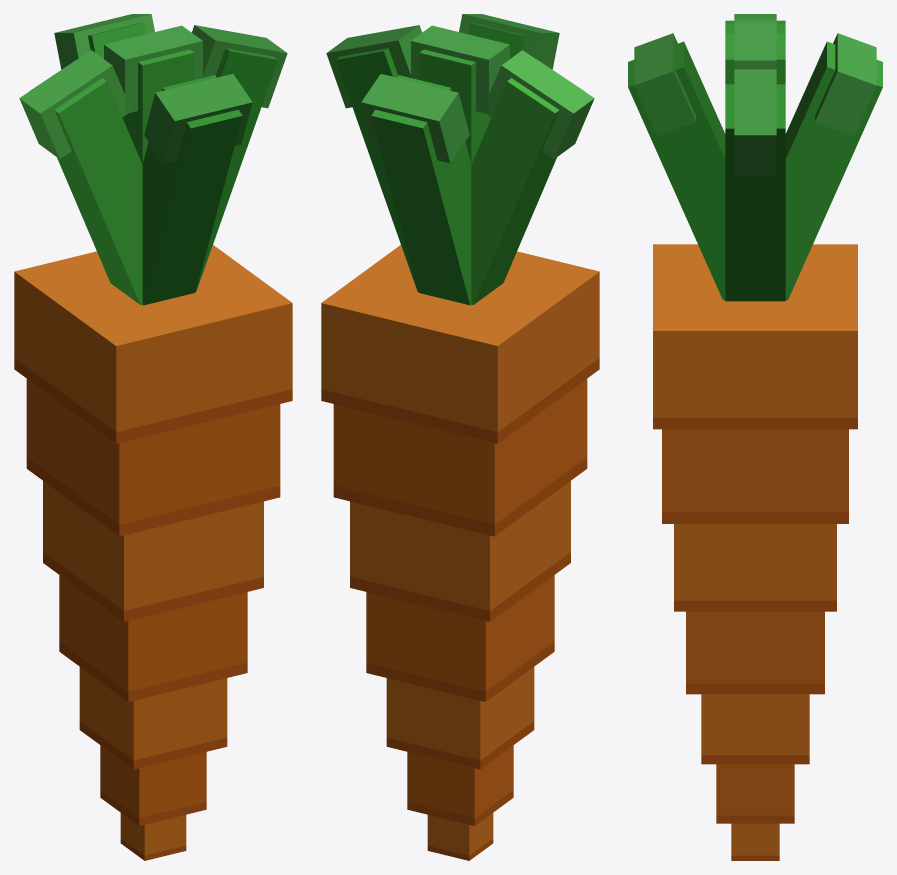
File: carrot.glb
The picture shows the model from 3 angles, left to right: view 1: azimuth 30°, elevation 25°; view 2: azimuth 150°, elevation 25°; view 3: azimuth 270°, elevation 25°; orthographic projection.
Parts seen in each view (by area): view 1: carrot; view 2: carrot; view 3: carrot.
Part boxes in pixels (x1,y1,x2,y2): carrot: [14, 14, 292, 860]; carrot: [321, 14, 599, 860]; carrot: [628, 14, 882, 860].
Size of the model in its own units: 0.1609 by 0.5 by 0.1427.
